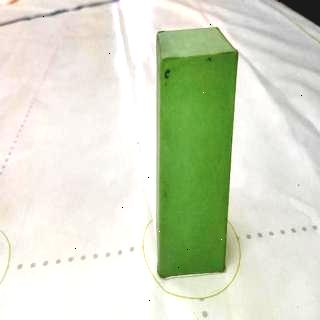greenbox: (157, 27, 240, 279)
